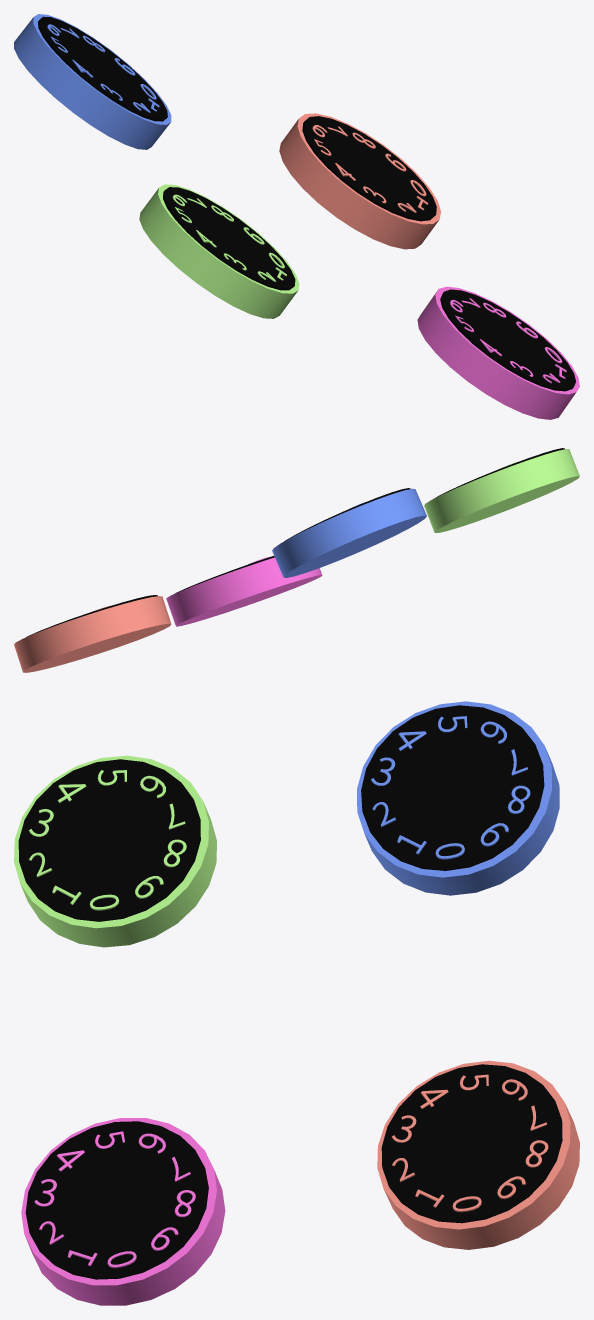
The model's file is dial puzzle lock outter dials.fbx.
3 renders of one model, top to bottom at view 1: azimuth 30°, elevation 25°; view 2: azimuth 150°, elevation 25°; view 3: azimuth 270°, elevation 25°, orthographic. The views are drawn at different scales.
Parts seen in each view (by area): view 1: 4cbca0d4-e709-4558-84e6-095421c73f13; view 2: 4cbca0d4-e709-4558-84e6-095421c73f13; view 3: 4cbca0d4-e709-4558-84e6-095421c73f13.
Part boxes in pixels (left/top/right/bottom): 4cbca0d4-e709-4558-84e6-095421c73f13: left=14, top=14, right=579, bottom=419; 4cbca0d4-e709-4558-84e6-095421c73f13: left=14, top=448, right=579, bottom=672; 4cbca0d4-e709-4558-84e6-095421c73f13: left=14, top=701, right=579, bottom=1305.
Size of the model in its own units: 21430 by 15992 by 20593.
